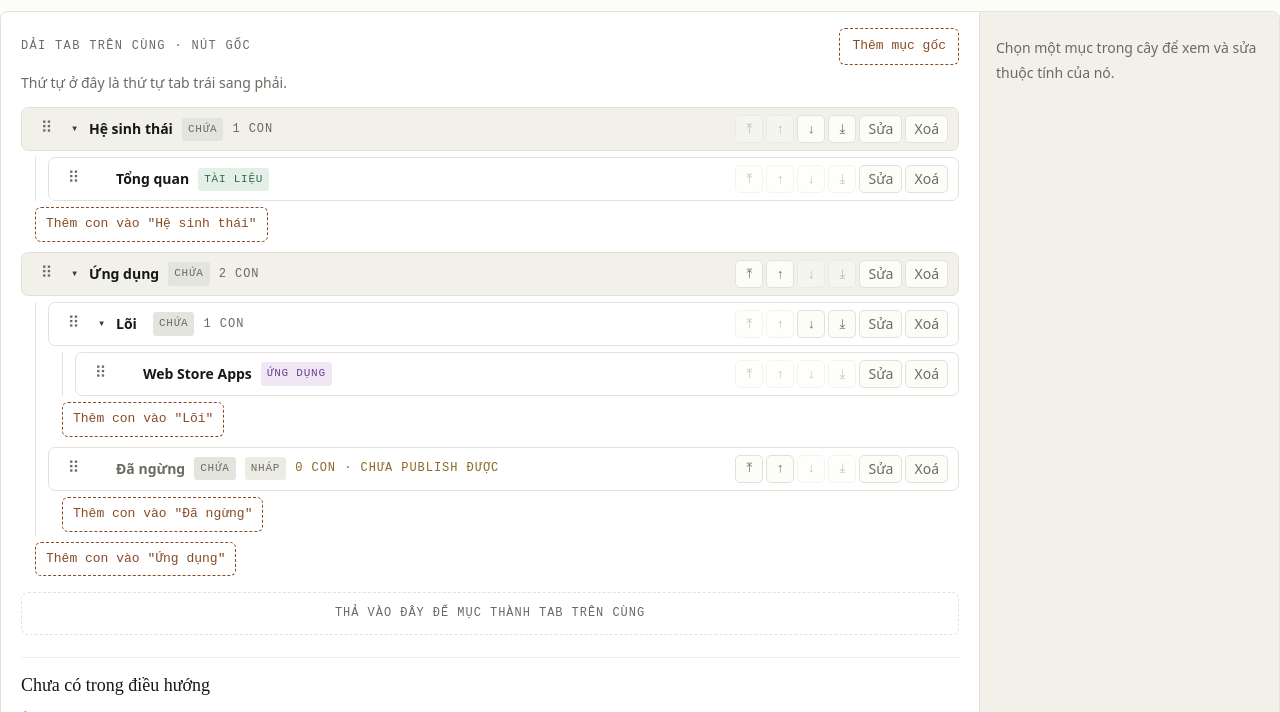
NavEditor › chọn nút chứa thì bảng thuộc tính KHÔNG có ô nội dung
Click the button "Ứng dụng".
click(124, 274)  # box [89,260,159,288]
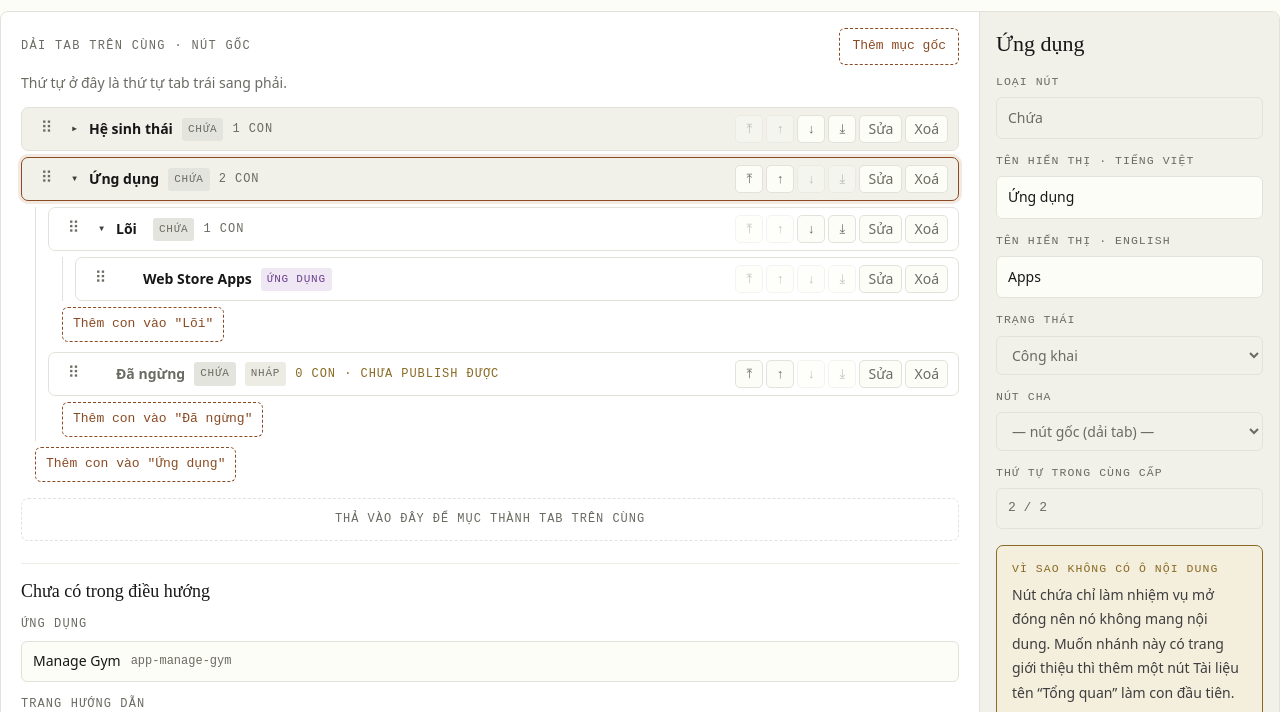
Check: the field labelled "Tên hiển thị · Tiếng Việt" holds "Ứng dụng", box [996,176,1263,219]
Check: the field labelled "Tên hiển thị · English" holds "Apps", box [996,256,1263,298]
